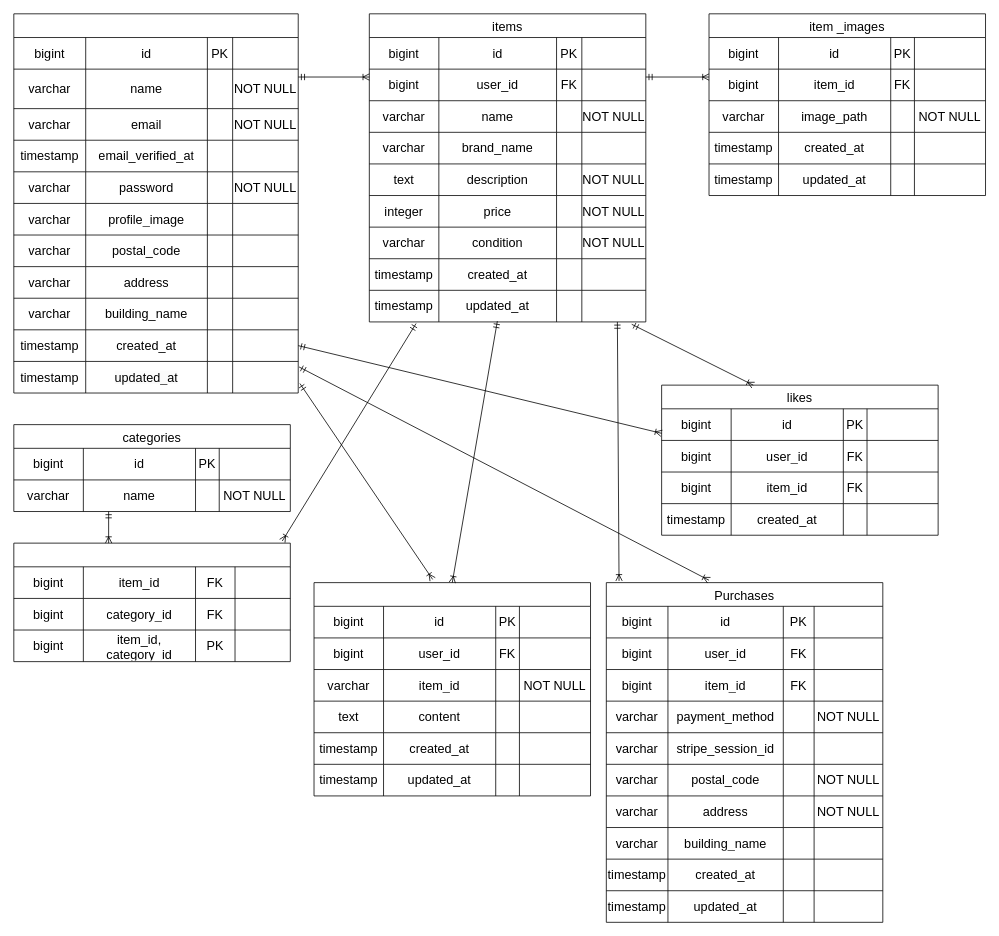
This 999x936 diagram has some shape labels left out. The box of each missing label's shape, as (x1, y1, x2, y2) in pixels:
category_item: (13, 542, 290, 662)
comments: (313, 582, 591, 796)
users: (13, 13, 298, 393)
